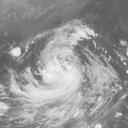cyclone: (9, 43, 84, 107)
